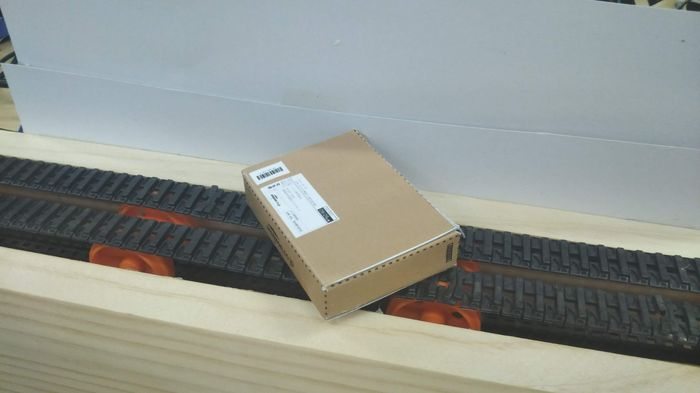box2: (237, 126, 464, 323)
